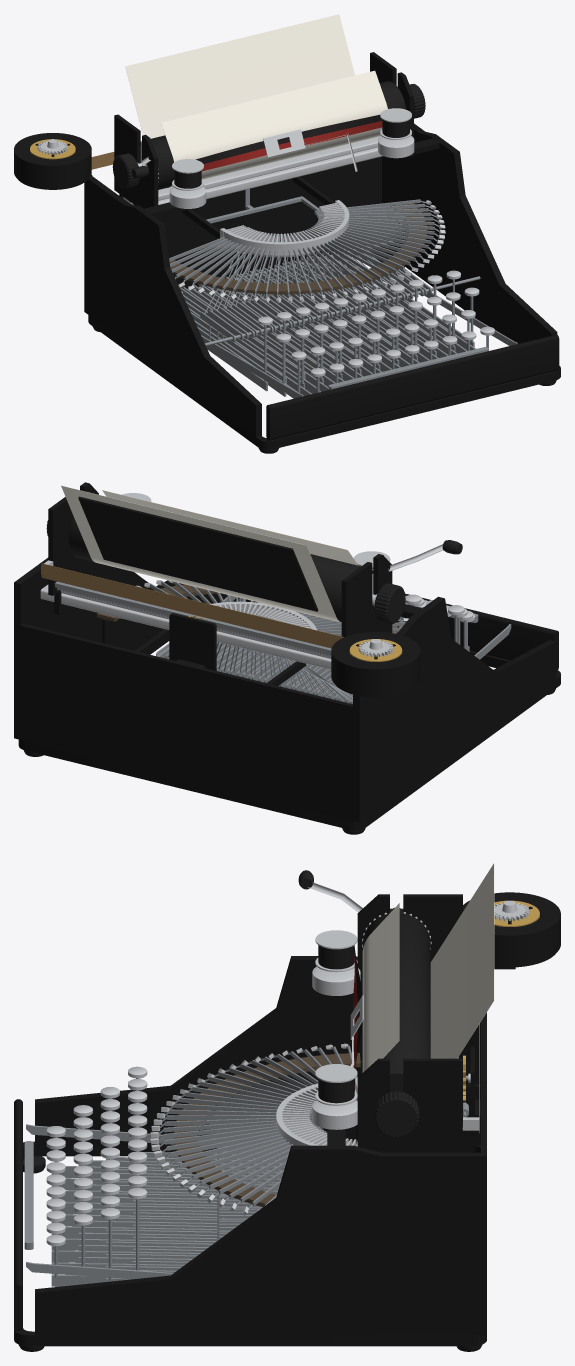
The model's file is typewriter.glb.
3 views of the same model, one above another, from view 1: azimuth 30°, elevation 25°; view 2: azimuth 150°, elevation 25°; view 3: azimuth 270°, elevation 25° (orthographic). The views are drawn at different scales.
Visible parts, largest first — view 1: frame, paper, keys, type_bars, carriage, sublevers, mainspring, segment, platen, ribbon, ribbon_right, ribbon_left (+9 smaller); view 2: frame, carriage, paper, drawband, mainspring, platen, sublevers, rack, keys, segment, type_bars, mainspring_drum (+1 smaller); view 3: frame, keys, paper, type_bars, carriage, platen, mainspring, ribbon, segment, sublevers, mainspring_drum, key_y (+3 smaller).
Part boxes in pixels (x1,y1,x2,y2): frame: (84,123,560,453); paper: (125,14,387,187); keys: (180,248,517,398); type_bars: (169,199,445,303); carriage: (114,52,413,218); sublevers: (200,246,432,342); mainspring: (14,133,92,213); segment: (220,200,349,255); platen: (112,81,425,189); ribbon: (172,108,411,190); ribbon_right: (301,114,382,145); ribbon_left: (195,141,266,171); frame: (14,557,560,834); carriage: (41,482,462,658); paper: (61,485,358,622); drawband: (41,563,343,648); mainspring: (331,631,420,707); platen: (46,516,405,624); sublevers: (156,642,352,703); rack: (55,581,331,656); keys: (221,594,511,701); segment: (210,601,317,665); type_bars: (135,580,408,633); mainspring_drum: (349,639,402,661); frame: (14,956,486,1351); keys: (24,1066,217,1286); paper: (362,863,494,1072); type_bars: (150,1043,357,1215); carriage: (298,870,479,1152); platen: (362,907,431,1137); mainspring: (463,892,560,969); ribbon: (315,930,357,1105); segment: (276,1077,357,1146); sublevers: (217,1127,323,1240); mainspring_drum: (494,900,539,926); key_y: (100,1147,217,1222).
Bounding box in the file's own units: 0.361 × 0.2386 × 0.363.
